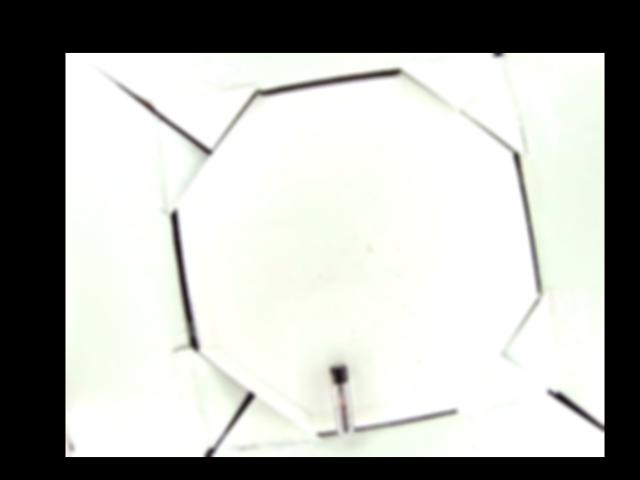Battery: (328, 363, 357, 436)
